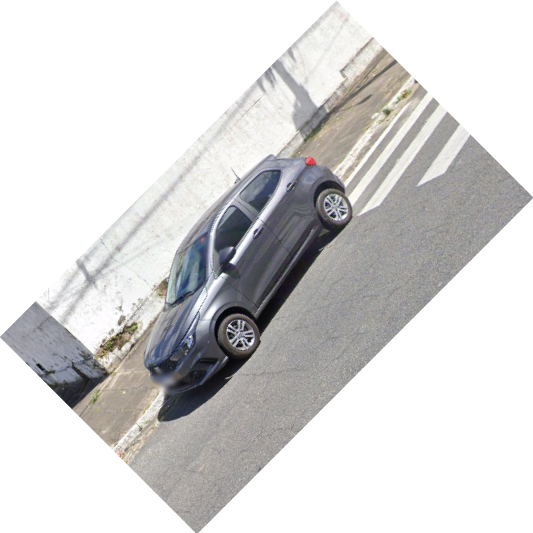car: (143, 153, 359, 396)
